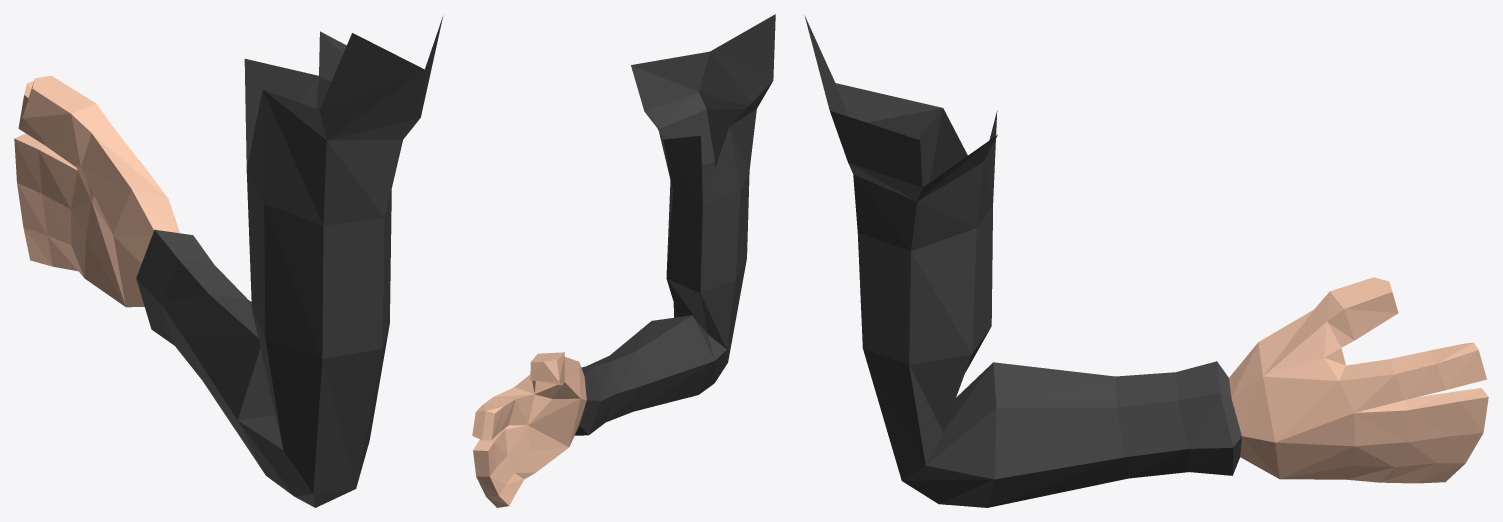
Rendered from Son_01_ArmR_96_03_A.obj.
3 renders of one model, left to right at view 1: azimuth 30°, elevation 25°; view 2: azimuth 150°, elevation 25°; view 3: azimuth 270°, elevation 25°, orthographic. The views are drawn at different scales.
Parts seen in each view (by area): view 1: Son_01_ArmR_96_03_A; view 2: Son_01_ArmR_96_03_A; view 3: Son_01_ArmR_96_03_A.
Boxes of the visible parts, left/top/right/bottom form: Son_01_ArmR_96_03_A: left=14, top=17, right=442, bottom=507; Son_01_ArmR_96_03_A: left=472, top=14, right=775, bottom=507; Son_01_ArmR_96_03_A: left=804, top=15, right=1488, bottom=507.
Bounding box in the file's own units: 0.1573 × 0.469 × 0.6171.
Materials: 1 (1 with a texture image).
